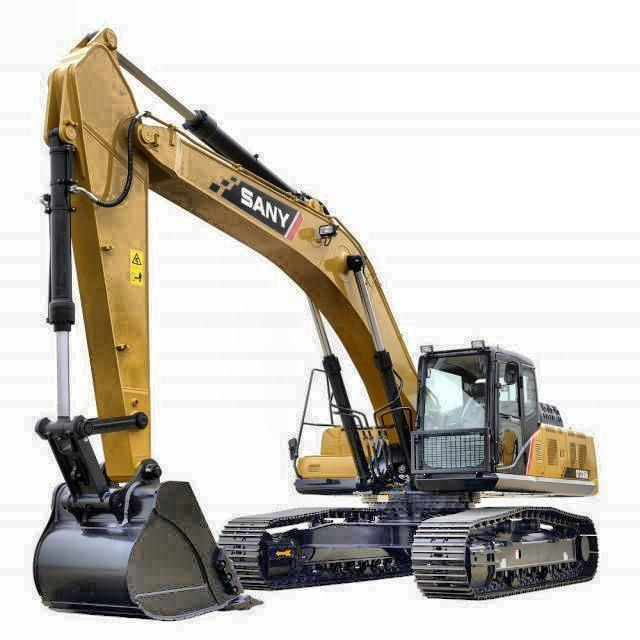excavator: (32, 24, 598, 626)
